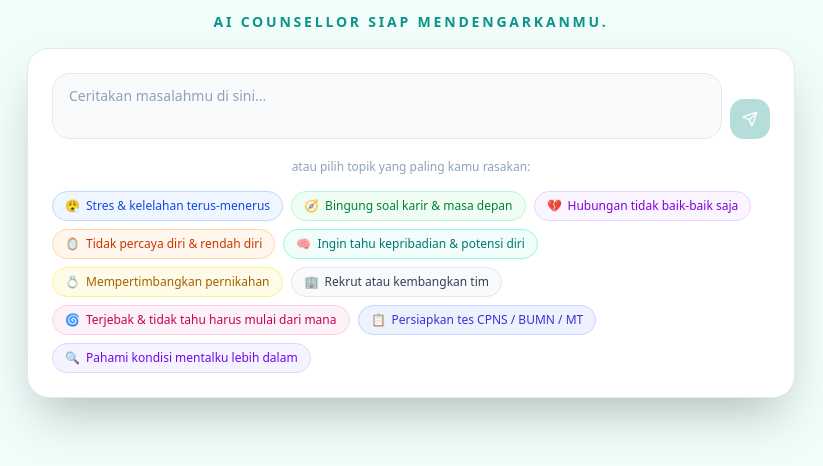
Test case: PsikotesDiagnostic › shows price formatted in Indonesian locale
The image size is (823, 466).
Click the text "Stres & kelelahan terus-menerus".
click(178, 206)  # box [86,198,270,214]
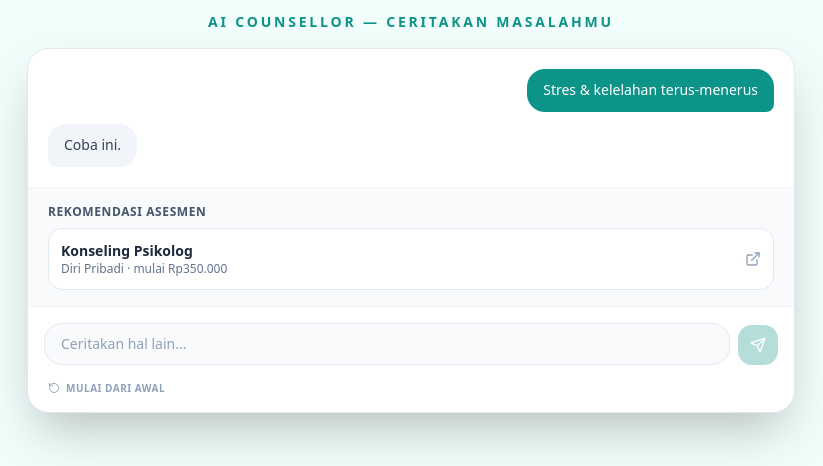
Check: the text "Diri Pribadi · mulai Rp350.000" is shown, box [61,260,227,276]
